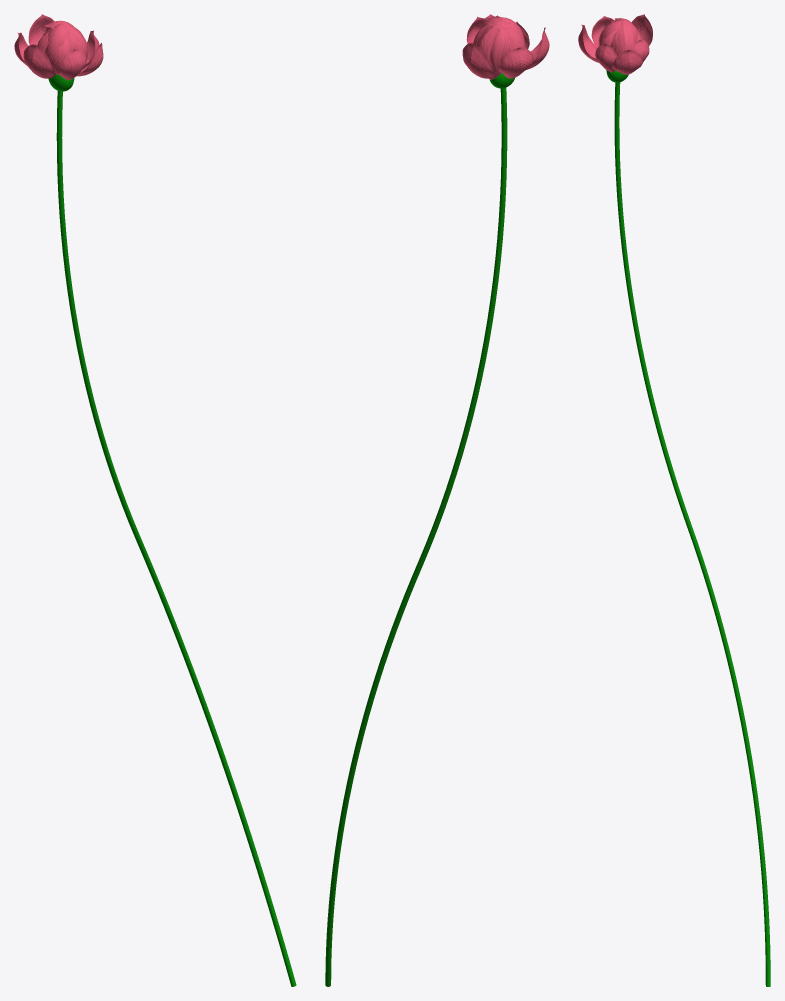
The model's file is Lotus036.fbx.
3 renders of one model, left to right at view 1: azimuth 30°, elevation 25°; view 2: azimuth 150°, elevation 25°; view 3: azimuth 330°, elevation 25°, orthographic. The views are drawn at different scales.
Parts seen in each view (by area): view 1: pCylinder5, nurbsToPoly11; view 2: pCylinder5, nurbsToPoly10, nurbsToPoly12; view 3: pCylinder5, nurbsToPoly24, nurbsToPoly13.
Part boxes in pixels (x1,y1,x2,y2): pCylinder5: [56, 91, 296, 986]; nurbsToPoly11: [23, 44, 56, 78]; pCylinder5: [325, 87, 507, 986]; nurbsToPoly10: [462, 43, 499, 78]; nurbsToPoly12: [498, 47, 533, 78]; pCylinder5: [614, 82, 770, 986]; nurbsToPoly24: [612, 50, 643, 74]; nurbsToPoly13: [614, 22, 634, 56].
Bounding box in the file's own units: 51.05 × 202 × 22.46.
